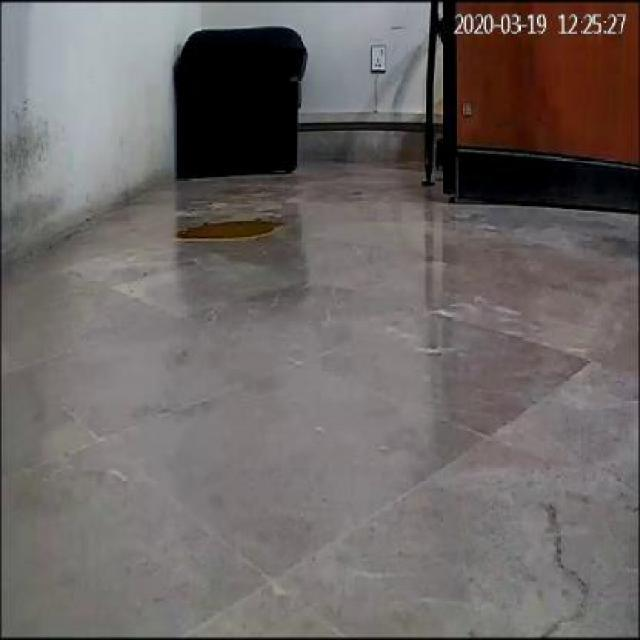spill: (175, 214, 283, 242)
